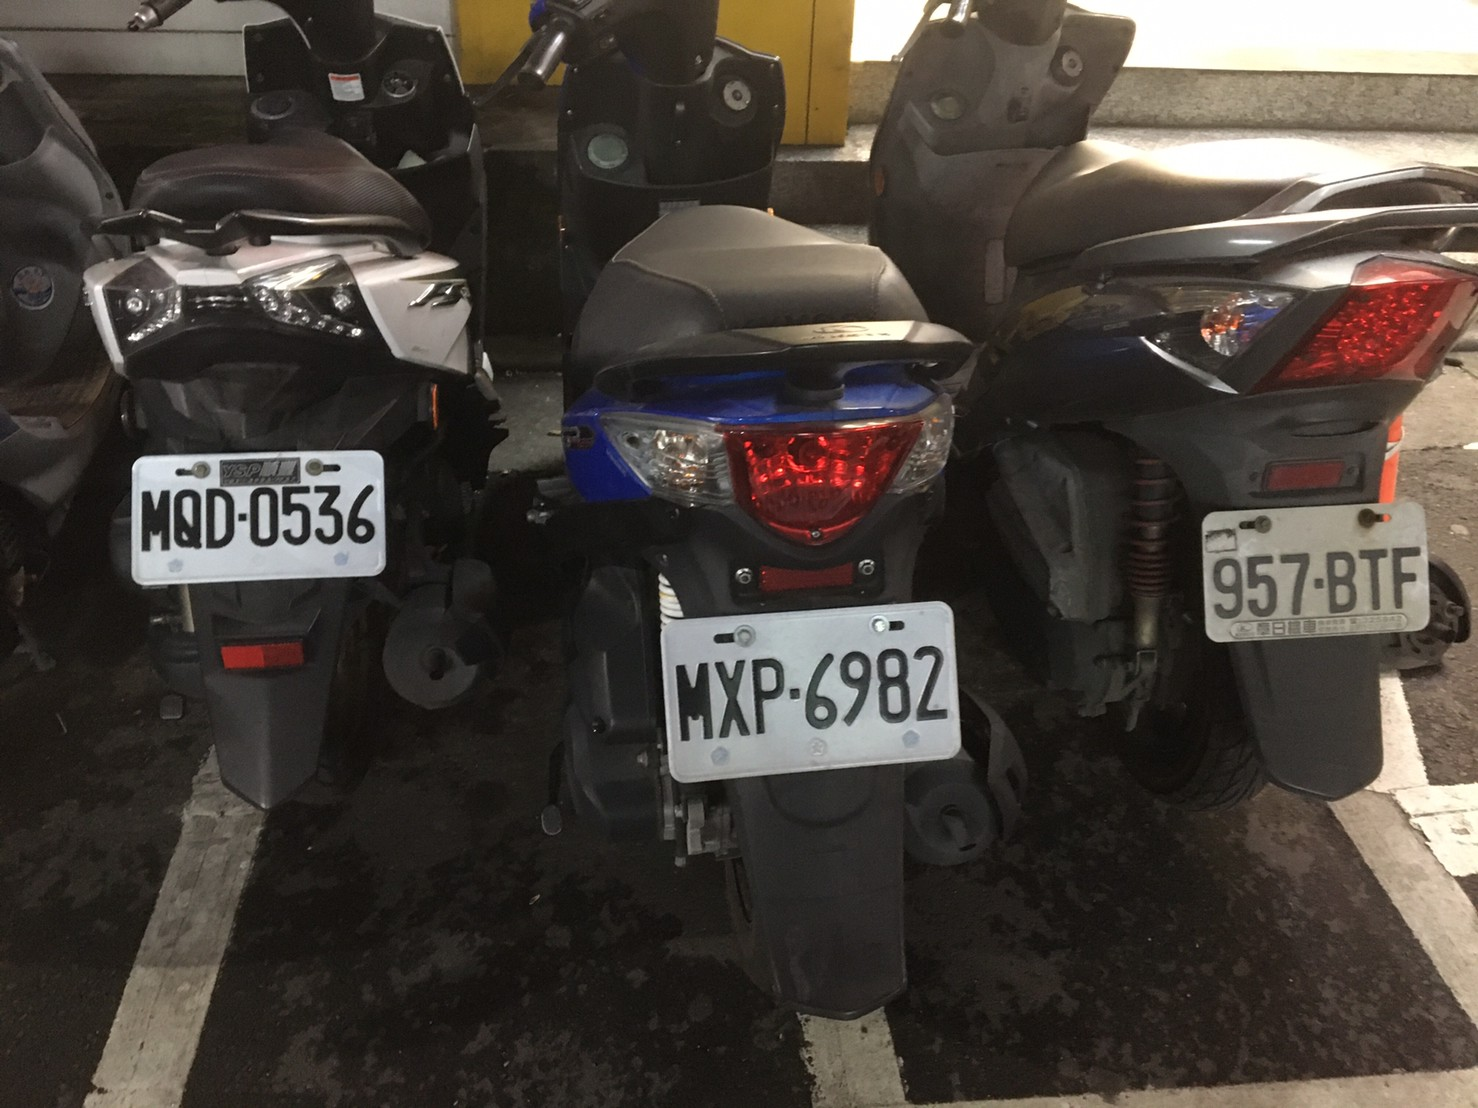LP: (655, 595, 967, 789), (126, 446, 388, 582), (1193, 503, 1440, 644)
